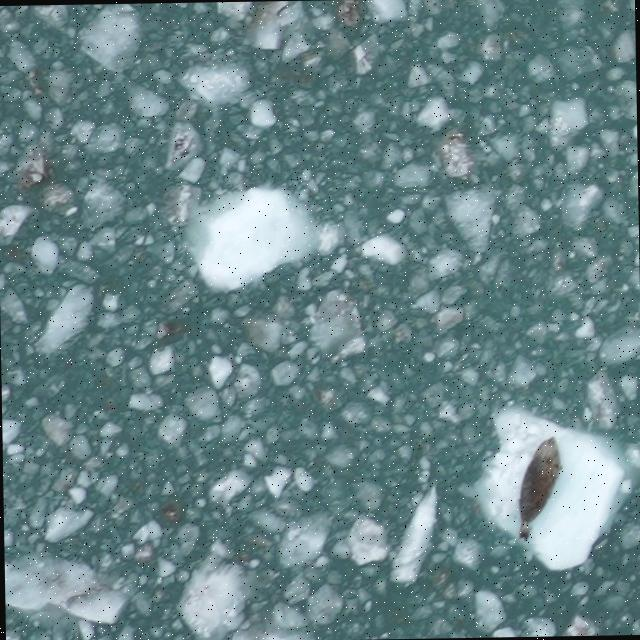seal: (514, 431, 568, 544)
